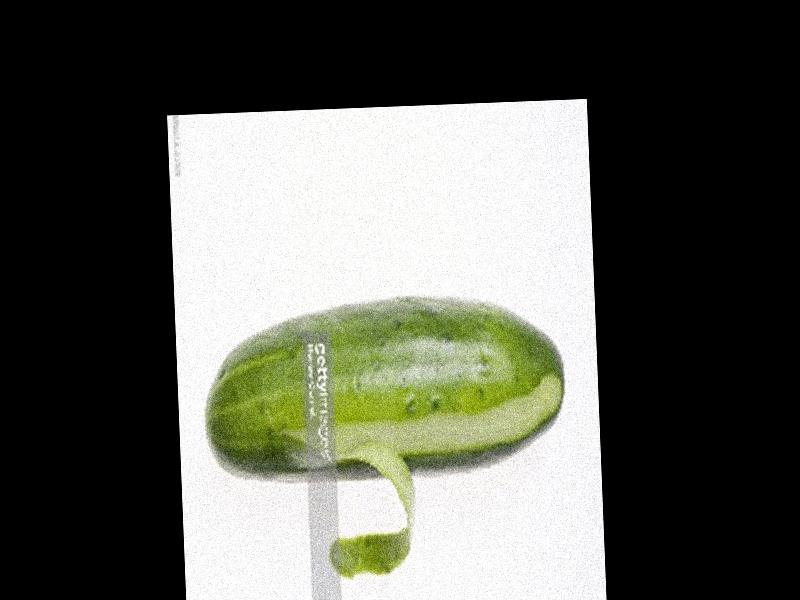Cucumber: (200, 292, 569, 489)
